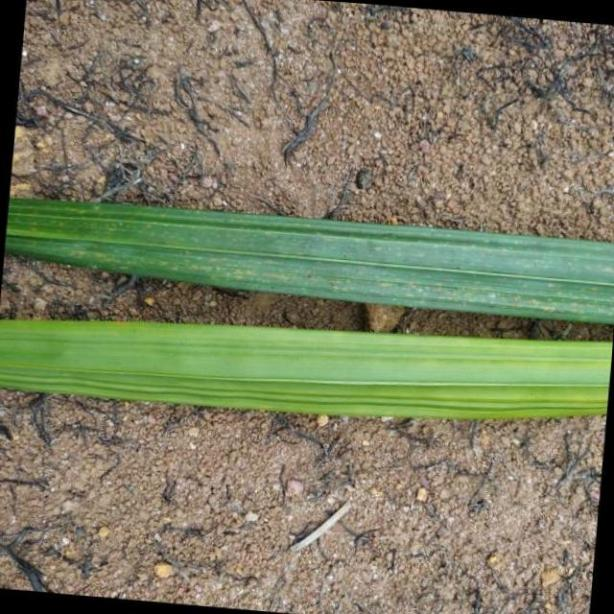nitrogen: (0, 193, 614, 323), (3, 318, 614, 416)
